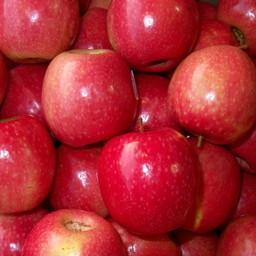apple: (97, 129, 199, 233), (39, 49, 137, 148), (165, 44, 256, 145), (105, 1, 199, 74), (1, 113, 53, 214), (1, 1, 80, 64)
